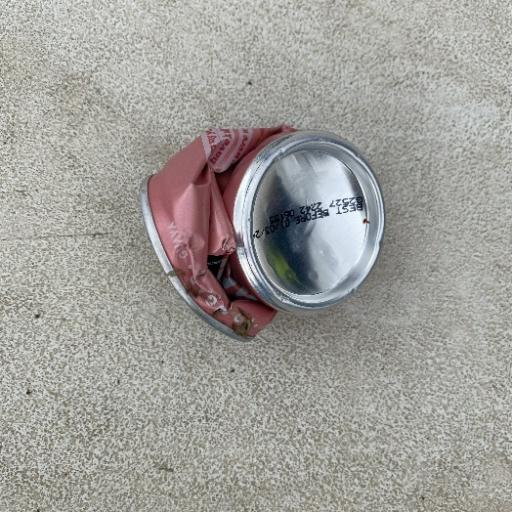Metal: (137, 121, 388, 344)
